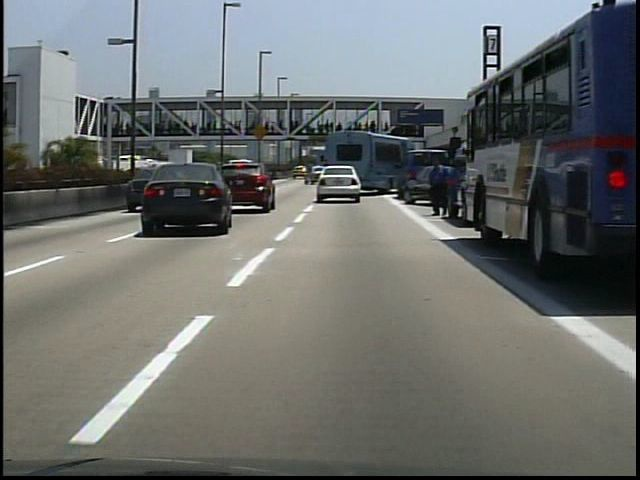person: (426, 152, 450, 222)
